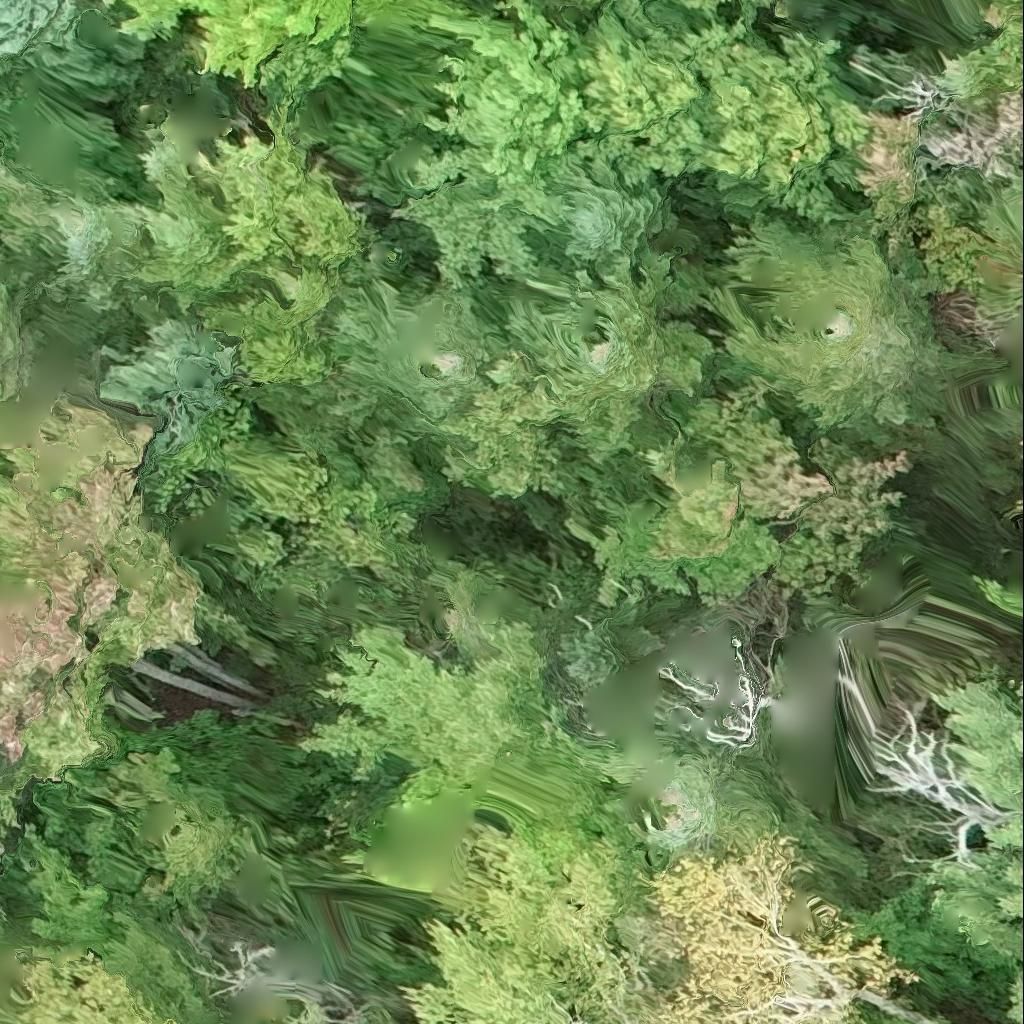crown: (1012, 973, 1023, 1023)
